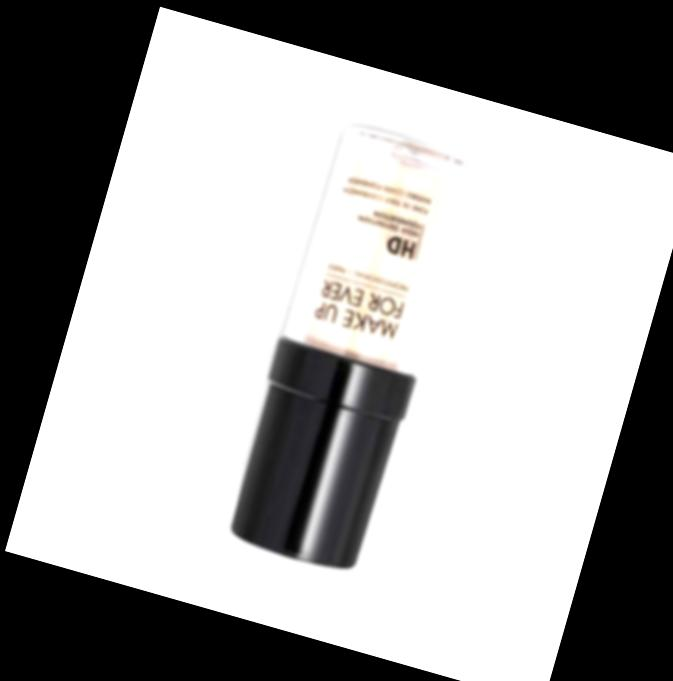cosmetic: (218, 118, 484, 579)
